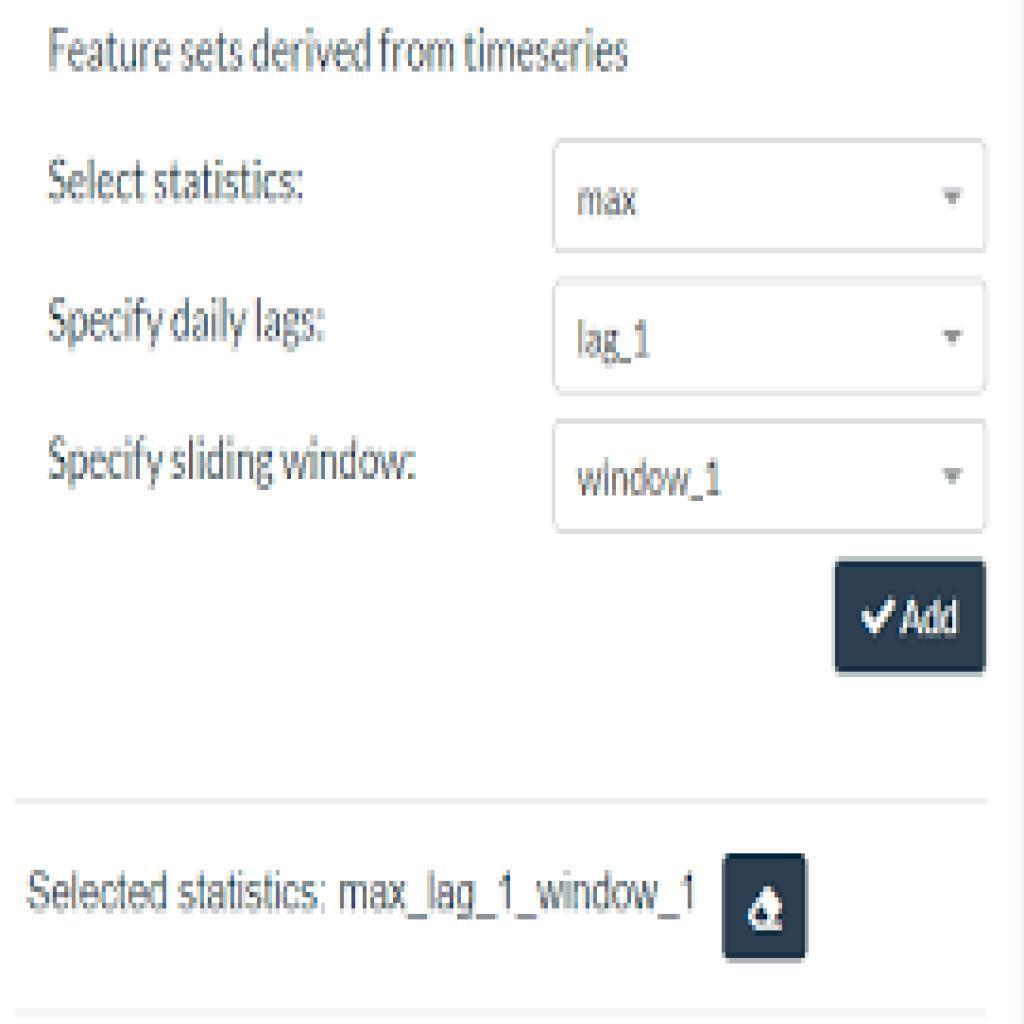button: (835, 557, 991, 674)
dropdown: (549, 134, 993, 257), (550, 418, 992, 537), (549, 278, 992, 396)
icon: (720, 852, 812, 962)
